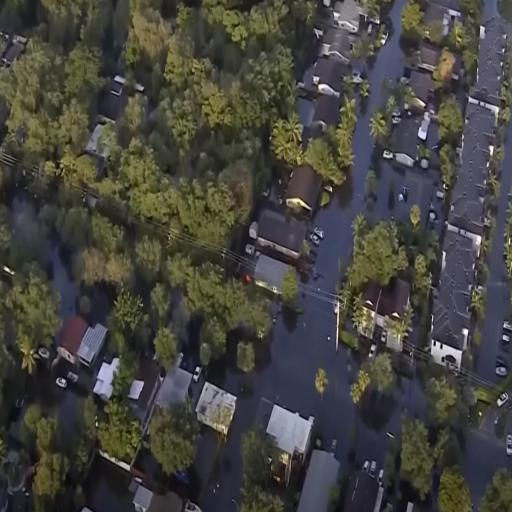flood: (189, 293, 360, 511), (312, 378, 426, 476), (311, 118, 369, 293), (476, 119, 512, 381), (368, 0, 407, 121), (68, 442, 134, 512), (48, 360, 93, 461), (464, 430, 512, 512), (376, 163, 436, 227), (49, 243, 77, 322), (87, 302, 103, 324)
house: (453, 99, 498, 249), (432, 228, 478, 370), (262, 398, 314, 490), (470, 18, 511, 111), (369, 270, 414, 354), (57, 316, 108, 389), (296, 439, 340, 512), (255, 205, 308, 261), (195, 381, 237, 441), (283, 164, 324, 212), (312, 56, 344, 102), (330, 0, 371, 33), (391, 122, 417, 168)
